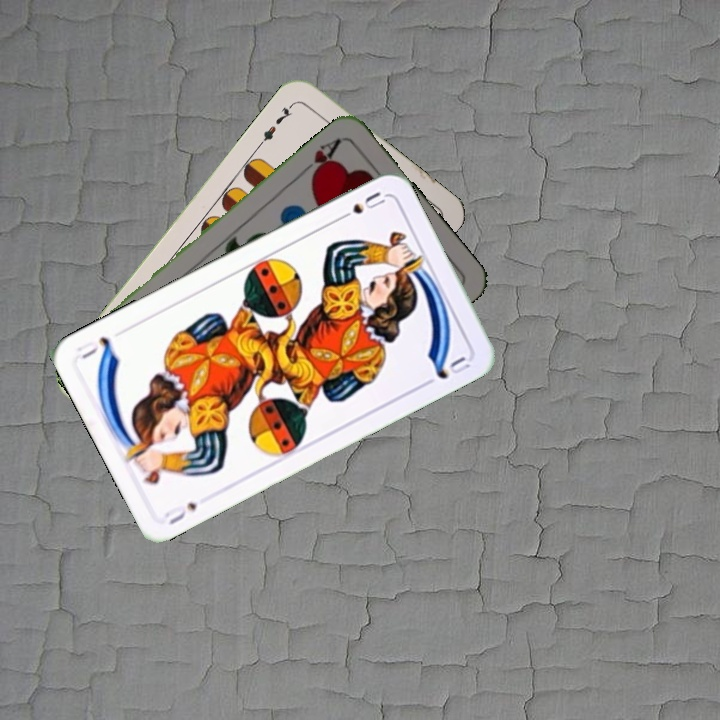E7: (255, 98, 297, 148)
HA: (296, 134, 344, 182)
SU: (333, 187, 388, 224), (160, 498, 200, 528)
